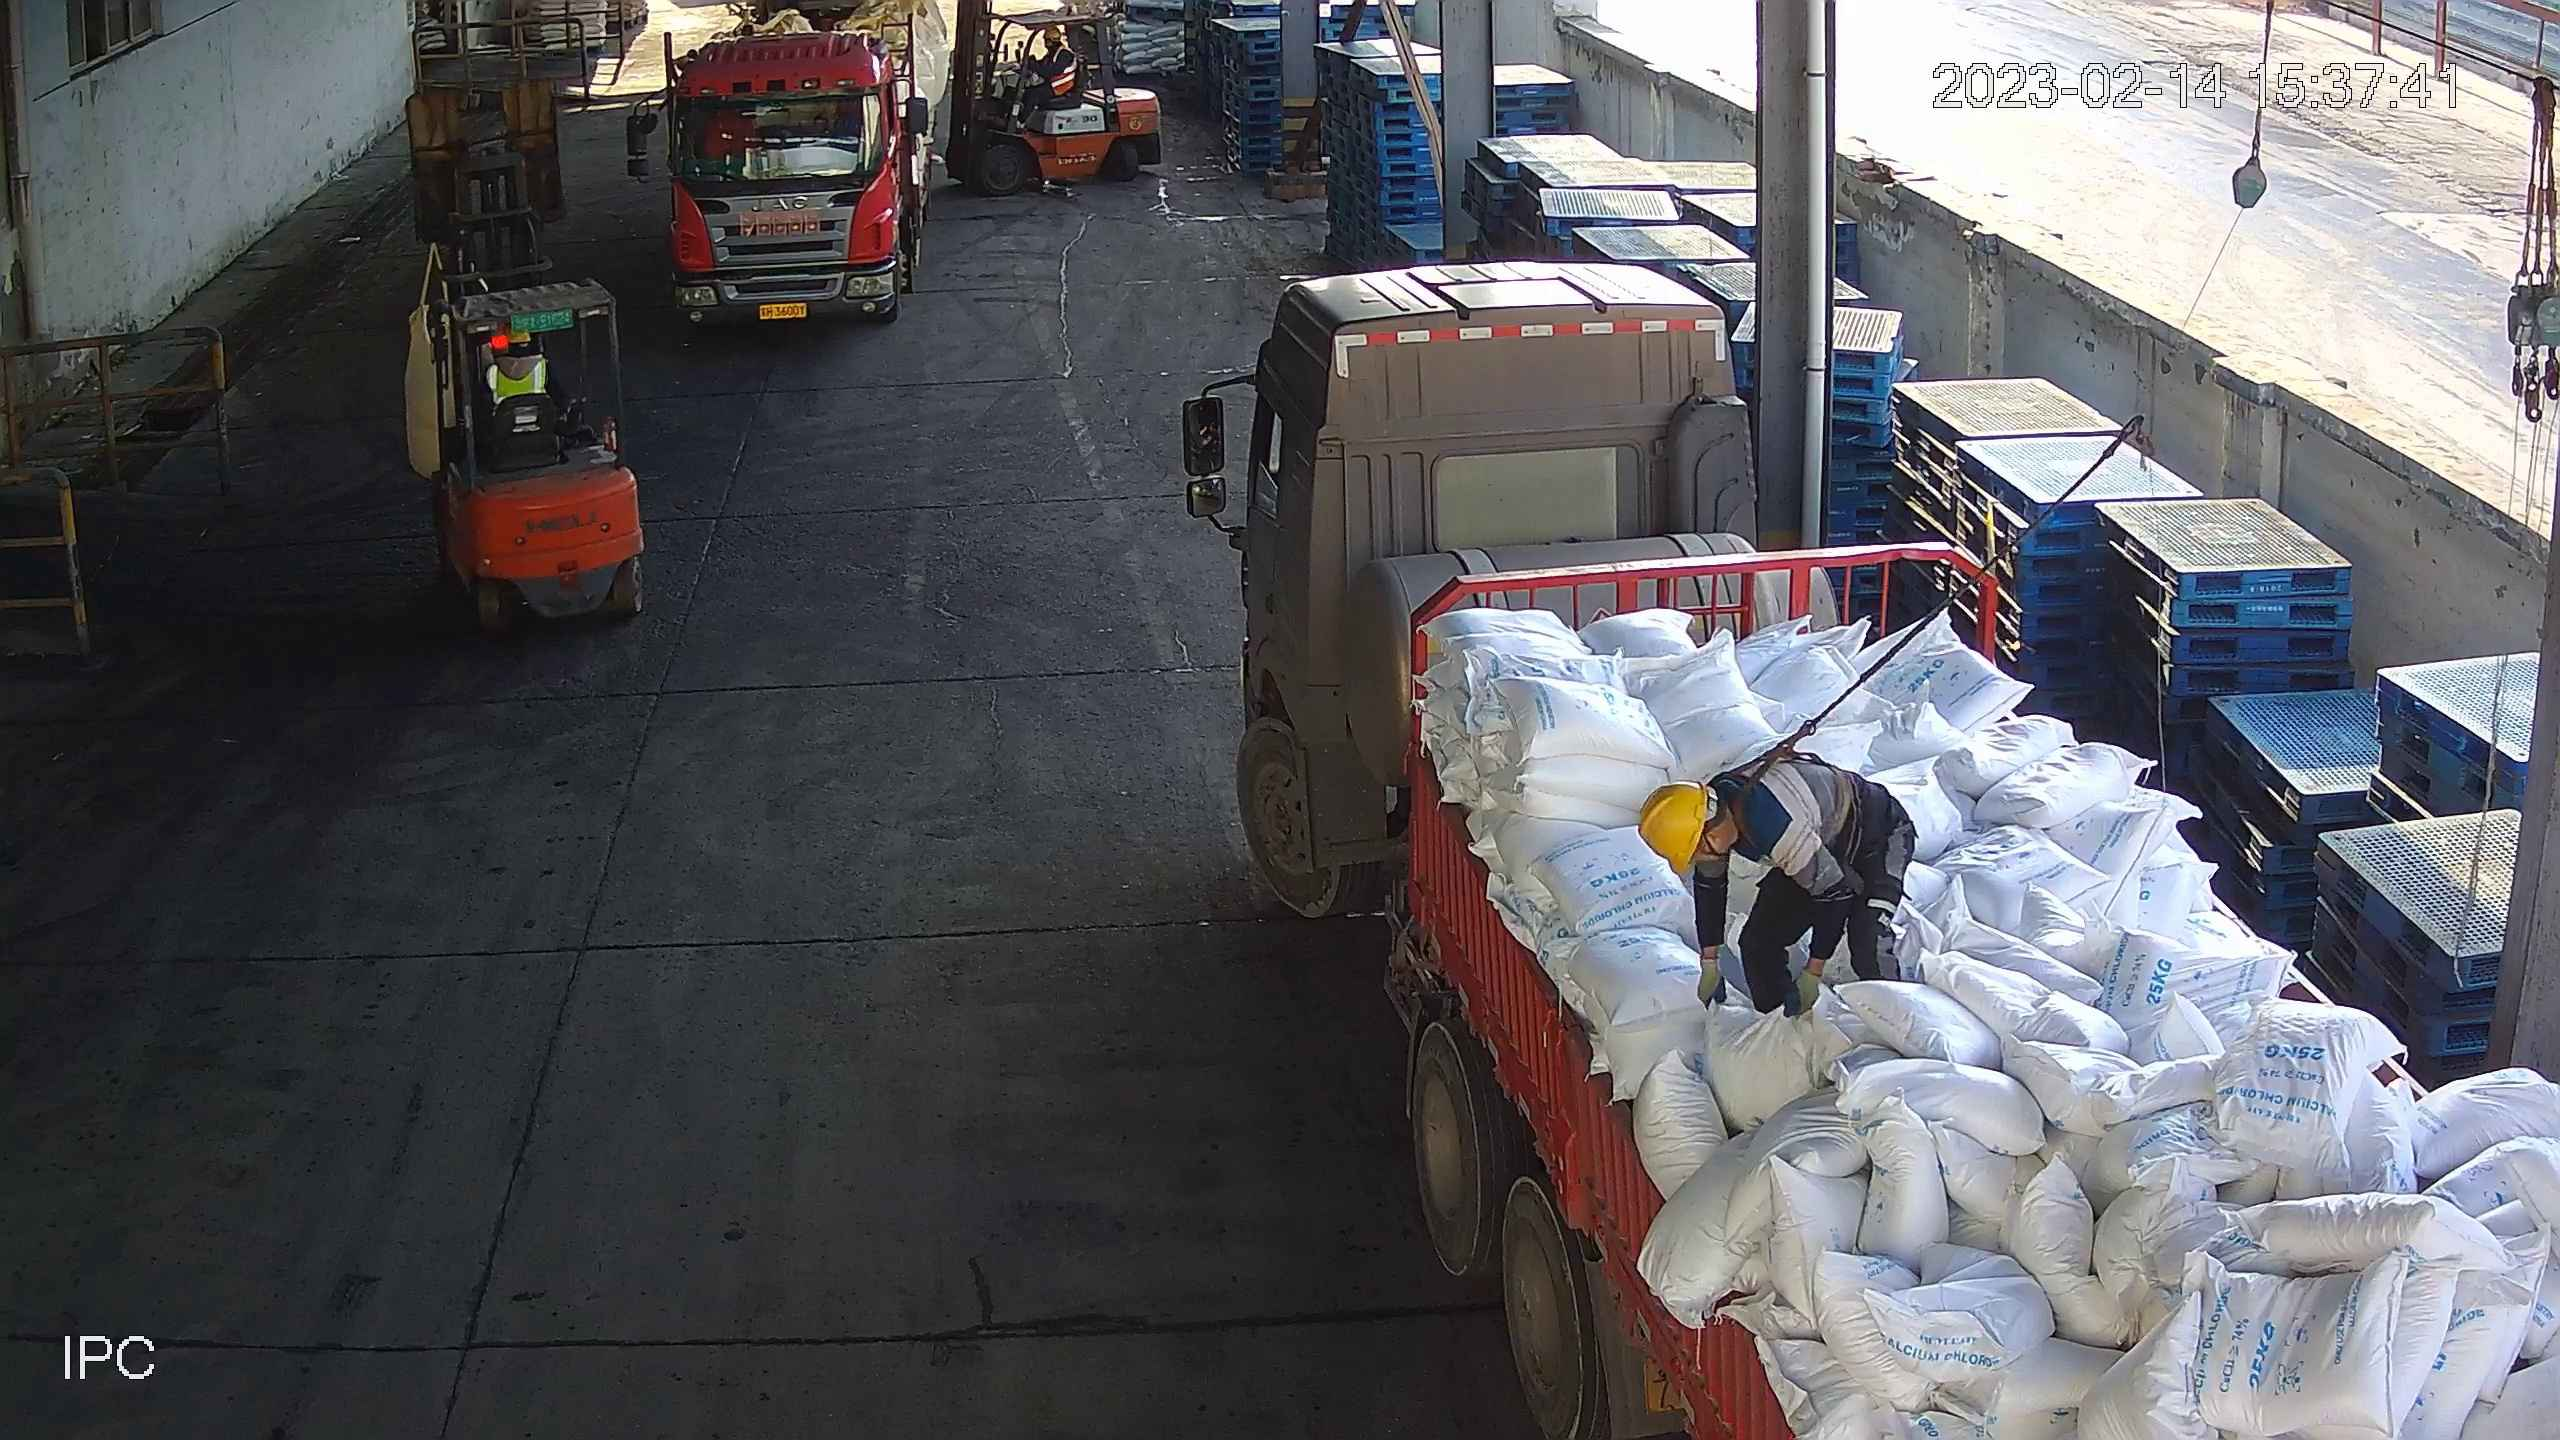belt: (1711, 721, 1823, 793)
head: (1631, 743, 1816, 917), (483, 327, 544, 384)
helmet: (1627, 777, 1727, 873)
people: (1642, 738, 1931, 1021)
truck: (1181, 267, 2560, 1440), (618, 4, 933, 330)
